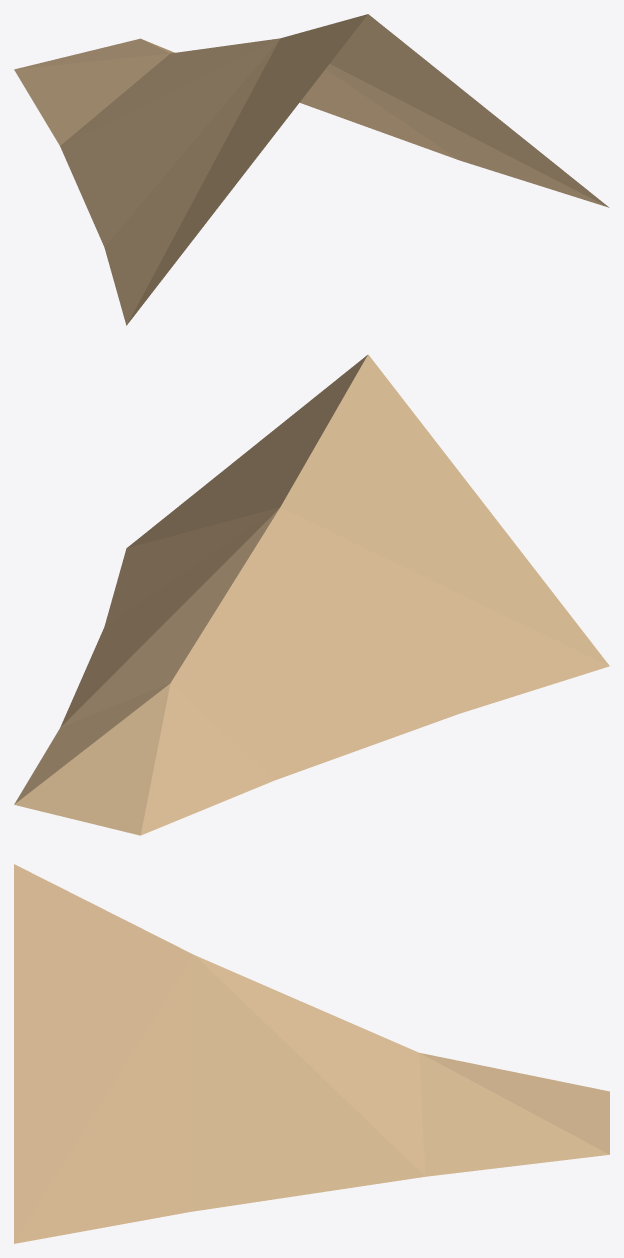
File: Prop_Building_Canopy_Canvas_03.FBX
3 views of the same model, one above another, from view 1: azimuth 30°, elevation 25°; view 2: azimuth 150°, elevation 25°; view 3: azimuth 270°, elevation 25° (orthographic). The views are drawn at different scales.
Parts seen in each view (by area): view 1: Prop_Building_Canopy_Canvas_03; view 2: Prop_Building_Canopy_Canvas_03; view 3: Prop_Building_Canopy_Canvas_03.
Part boxes in pixels (bbox=[...]): Prop_Building_Canopy_Canvas_03: bbox=[14, 14, 609, 325]; Prop_Building_Canopy_Canvas_03: bbox=[14, 354, 609, 835]; Prop_Building_Canopy_Canvas_03: bbox=[14, 864, 609, 1243].
Size of the model in its own units: 4398 by 2199 by 4584.
